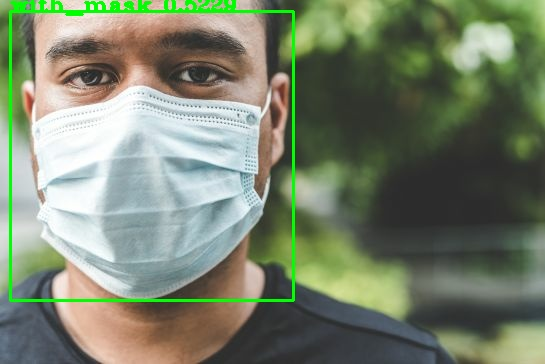with_mask: (13, 4, 299, 282)
